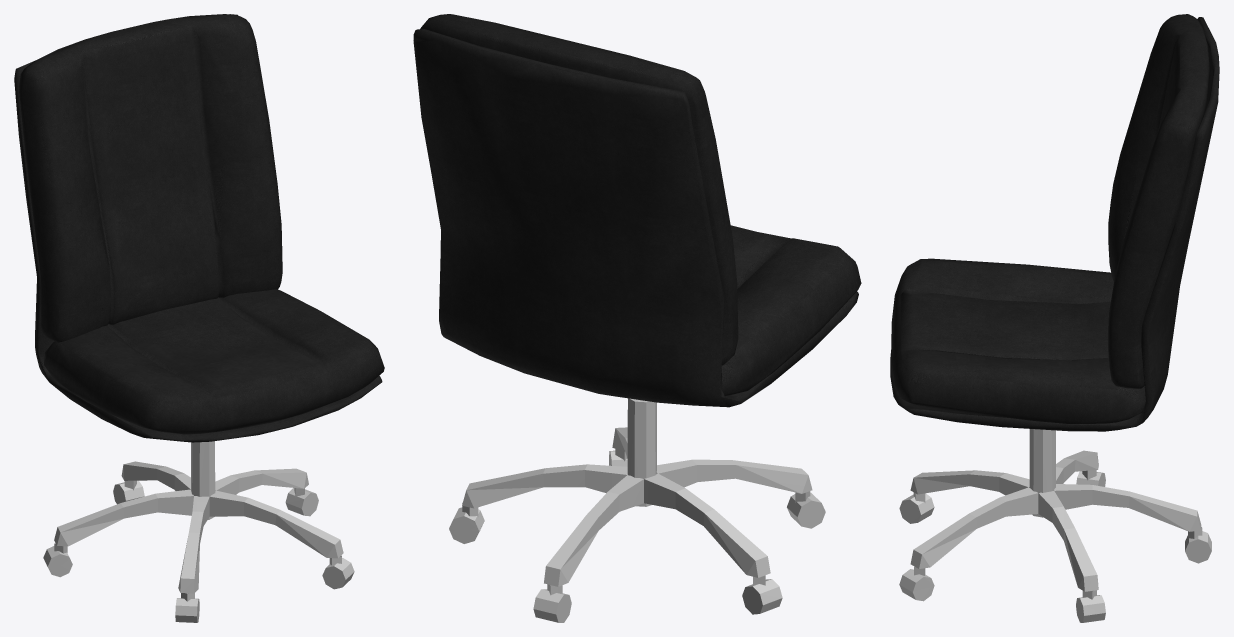
Rendered from Chair 2.FBX.
3 views of the same model, side by side, from view 1: azimuth 30°, elevation 25°; view 2: azimuth 150°, elevation 25°; view 3: azimuth 270°, elevation 25° (orthographic). The views are drawn at different scales.
Visible parts, largest first — view 1: Chair 2; view 2: Chair 2; view 3: Chair 2.
Part boxes in pixels (box(x1,y1,x2,y2)): Chair 2: box(14, 14, 384, 622); Chair 2: box(413, 14, 861, 622); Chair 2: box(890, 14, 1219, 622).
Bounding box in the file's own units: 80.3 × 135 × 80.47.
